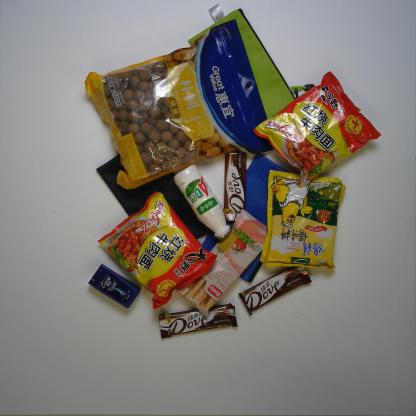Chocolate: (238, 266, 313, 316), (158, 303, 238, 339), (224, 150, 247, 222)
Dessert: (175, 208, 268, 319)
Dried Food: (84, 19, 276, 191)
Instant Noodles: (252, 70, 382, 188), (97, 190, 218, 310)
Milk: (173, 164, 231, 240)
Personal Hygiene: (88, 264, 141, 310)
Seasoner: (260, 169, 346, 272)
Stationery: (187, 3, 315, 118), (202, 152, 298, 282), (96, 153, 213, 240)
